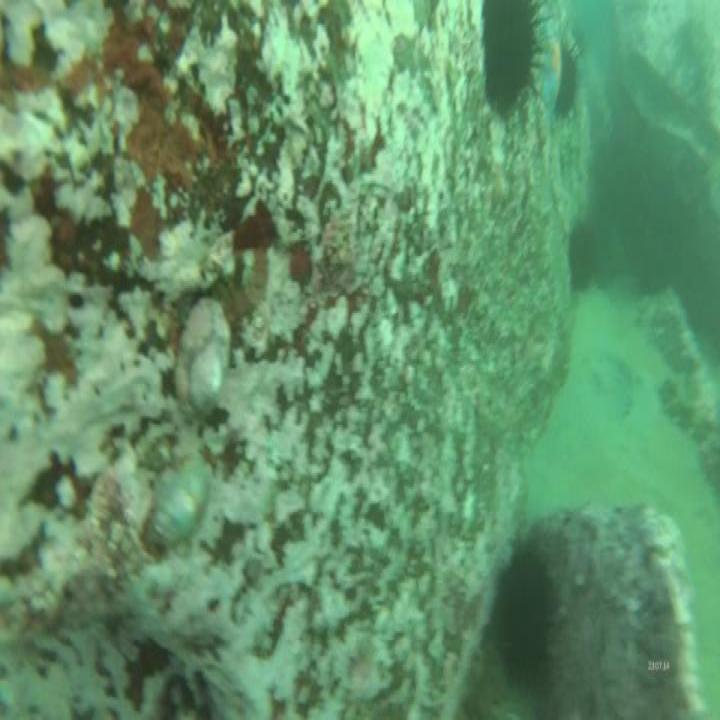echinus: (495, 538, 556, 690), (481, 2, 542, 121), (568, 214, 597, 294), (559, 41, 582, 126)
starfish: (541, 37, 561, 105)
